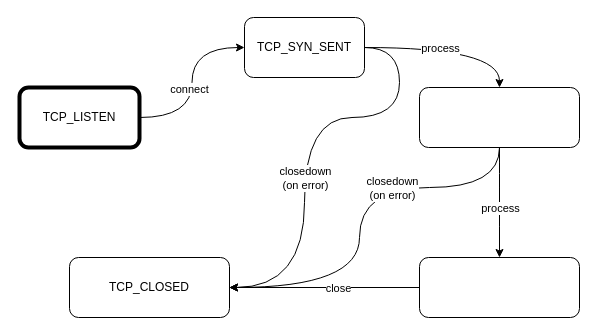
Some shapes in this 597 by 335 pixel diagram are drawn without their labels. Each missing label, with the centre of its shape:
"TCP_ESTABLISHED" belongs at [499,287].
"TCP_SYN_RECEIVED" belongs at [499,117].
